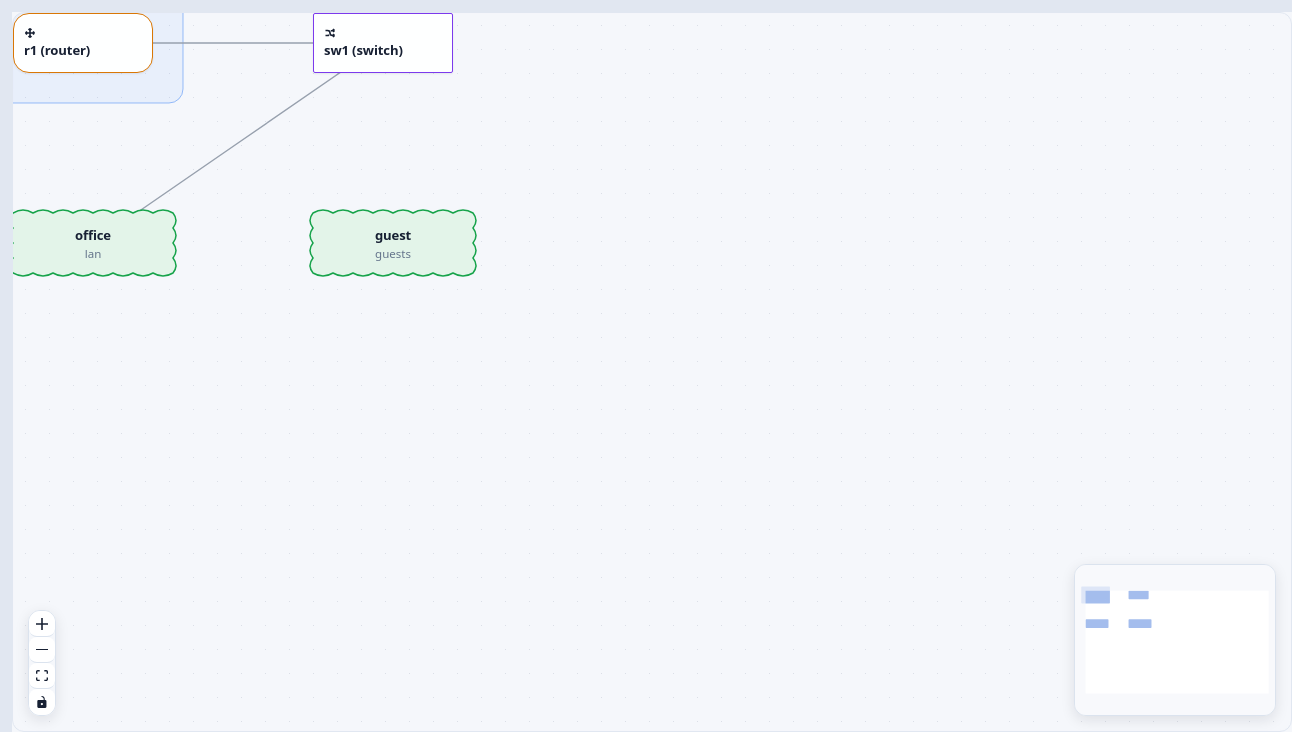
Scenario: TopologyCanvas › switches network info when another network is clicked
What coordinates should you click on to do the following:
click the element with test id "rf__node-network:office"
I would click on:
 (93, 243)
Its box is x1=13 y1=213 x2=173 y2=273.
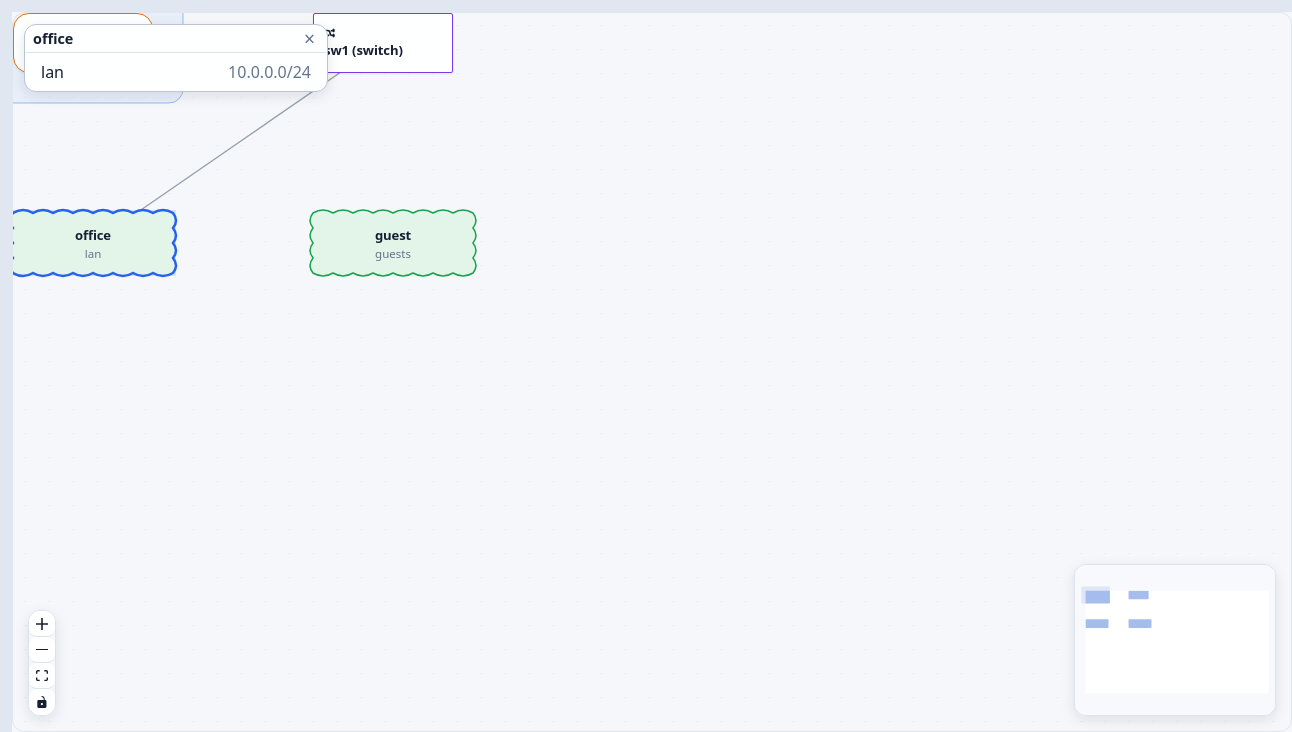
What coordinates should you click on to do the following:
click the element with test id "rf__node-network:guest"
I would click on:
 (393, 243)
Its box is x1=313 y1=213 x2=473 y2=273.
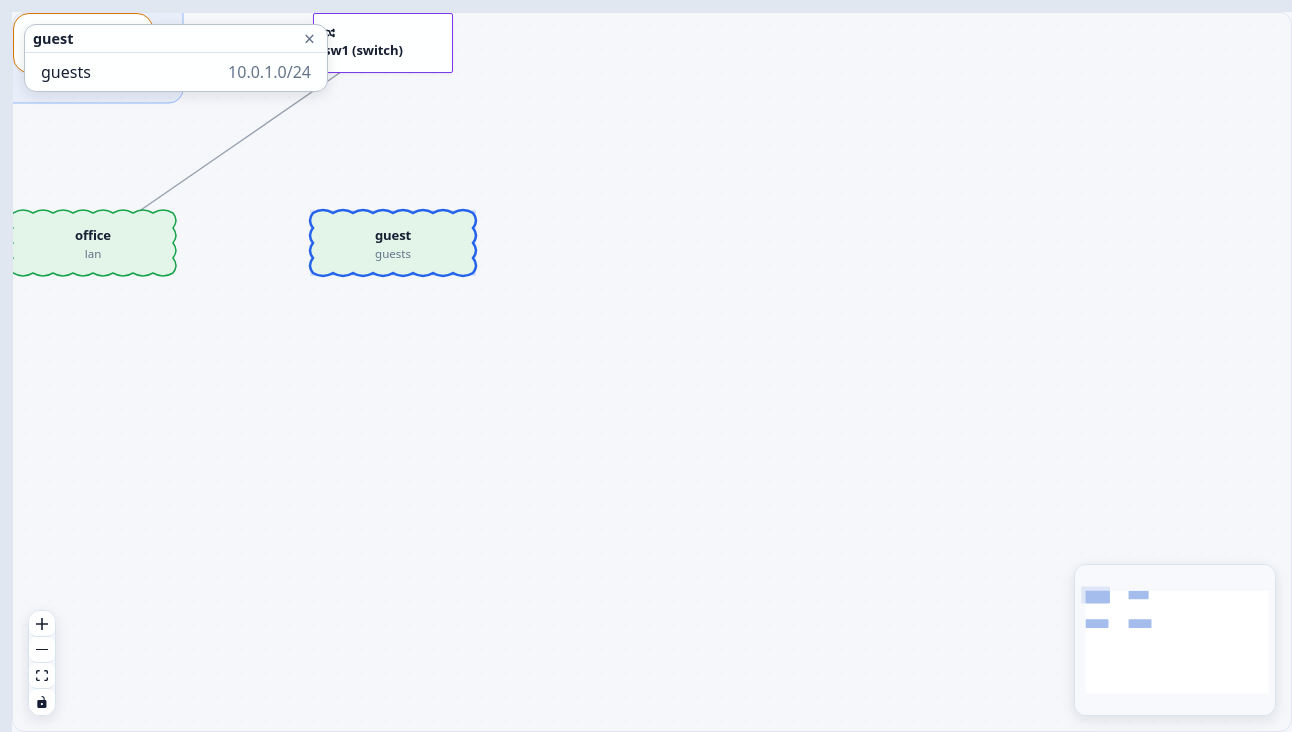
Now the element with test id "network-info" shows "guests", box x1=41 y1=61 x2=91 y2=83
Now the element with test id "network-info" shows "10.0.1.0/24", box x1=228 y1=61 x2=311 y2=83
Now the element with test id "network-info" no longer shows "10.0.0.0/24", box x1=24 y1=24 x2=328 y2=92
